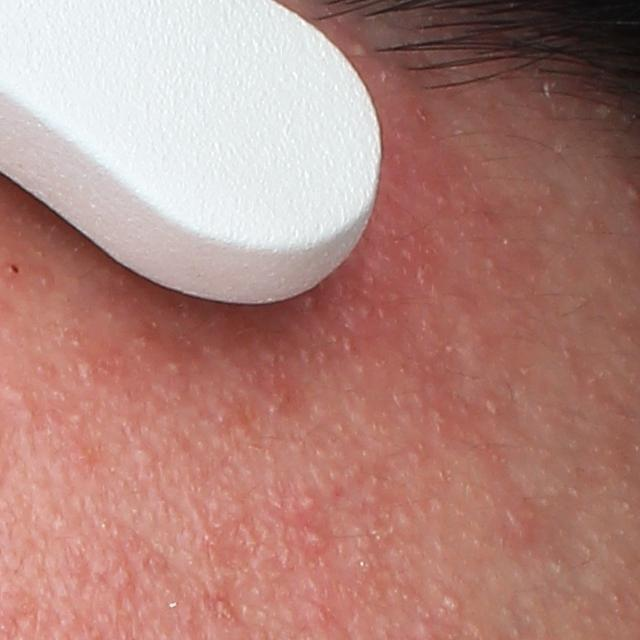comedo: (128, 439, 159, 466), (441, 593, 463, 612)
